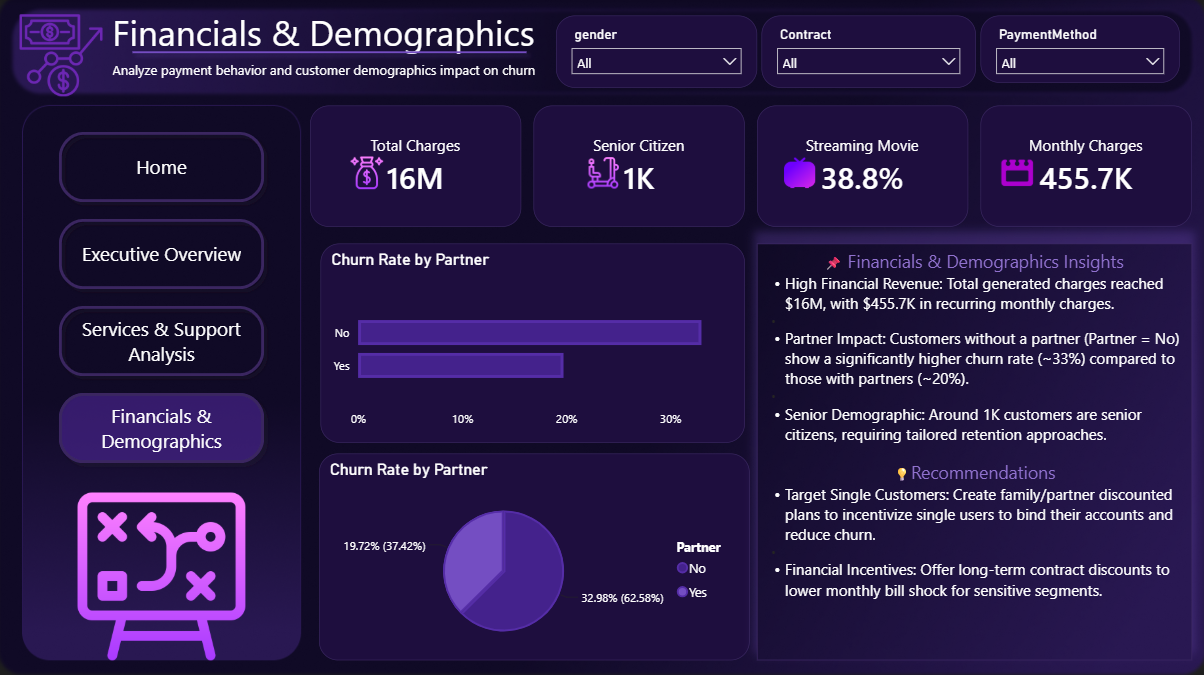

The dashboard page shown, as its layout file describes it:
{"tool":"powerbi","page":{"name":"Financial & Demographics","canvas":[1280,720],"ordinal":3},"visuals":[{"type":"textbox","box":[116.1,4.8,486.7,66.8],"z":0},{"type":"actionButton","box":[55.7,132,235.4,92.3],"z":1000},{"type":"actionButton","box":[55.7,224.3,235.4,92.3],"z":2000},{"type":"actionButton","box":[55.7,316.5,235.4,92.3],"z":3000},{"type":"actionButton","box":[55.7,408.8,235.4,92.3],"z":4000},{"type":"slicer","fields":{"Values":["01 Churn-Dataset.gender"]},"box":[591.7,17.5,213.1,76.3],"z":5000},{"type":"slicer","fields":{"Values":["01 Churn-Dataset.Contract"]},"box":[809.6,17.5,227.5,76.3],"z":6000},{"type":"slicer","fields":{"Values":["01 Churn-Dataset.PaymentMethod"]},"box":[1041.9,17.5,211.6,71.6],"z":7000},{"type":"cardVisual","fields":{"Data":["Sum(01 Churn-Dataset.TotalCharges)"]},"box":[330.8,112.9,224.3,128.8],"z":8000},{"type":"cardVisual","fields":{"Data":["Sum(01 Churn-Dataset.SeniorCitizen)"]},"box":[567.8,112.9,224.3,128.8],"z":9000},{"type":"cardVisual","fields":{"Data":["01 Churn-Dataset.Streaming Movie Adoption"]},"box":[804.8,112.9,224.3,128.8],"z":10000},{"type":"cardVisual","fields":{"Data":["Sum(01 Churn-Dataset.MonthlyCharges)"]},"box":[1041.9,112.9,224.3,128.8],"z":11000},{"type":"clusteredBarChart","fields":{"Y":["01 Churn-Dataset.Churn Rate"],"Category":["01 Churn-Dataset.Partner"]},"box":[342,259.3,450.1,211.6],"z":12000},{"type":"pieChart","fields":{"Y":["01 Churn-Dataset.Churn Rate"],"Category":["01 Churn-Dataset.Partner"]},"box":[340.4,482,456.5,219.5],"z":13000},{"type":"textbox","box":[804.8,259.3,461.3,442.2],"z":14000},{"type":"image","box":[17.5,15.9,98.6,87.5],"z":15000},{"type":"image","box":[55.7,523.3,235.4,178.1],"z":16000},{"type":"textbox","box":[116.1,60.4,475.6,31.8],"z":17000},{"type":"shape","box":[133.6,0,435.8,112.9],"z":18000},{"type":"image","box":[373.8,167,35,35],"z":19000},{"type":"image","box":[625.1,167,33.4,35],"z":20000},{"type":"image","box":[1057.8,167,46.1,35],"z":21000},{"type":"image","box":[827.1,167,46.1,35],"z":22000}]}

Visuals, with their boxes in screenshot pixels (x1, y1, x2, y2), scaled from the page's 1280x720 canvas onto the 1204x675 screenshot:
textbox: [109, 4, 567, 67]
actionButton: [52, 124, 274, 210]
actionButton: [52, 210, 274, 297]
actionButton: [52, 297, 274, 383]
actionButton: [52, 383, 274, 470]
slicer - 01 Churn-Dataset.gender: [557, 16, 757, 88]
slicer - 01 Churn-Dataset.Contract: [762, 16, 976, 88]
slicer - 01 Churn-Dataset.PaymentMethod: [980, 16, 1179, 84]
cardVisual - Sum(01 Churn-Dataset.TotalCharges): [311, 106, 522, 227]
cardVisual - Sum(01 Churn-Dataset.SeniorCitizen): [534, 106, 745, 227]
cardVisual - 01 Churn-Dataset.Streaming Movie Adoption: [757, 106, 968, 227]
cardVisual - Sum(01 Churn-Dataset.MonthlyCharges): [980, 106, 1191, 227]
clusteredBarChart - 01 Churn-Dataset.Churn Rate x 01 Churn-Dataset.Partner: [322, 243, 745, 441]
pieChart - 01 Churn-Dataset.Churn Rate x 01 Churn-Dataset.Partner: [320, 452, 750, 658]
textbox: [757, 243, 1191, 658]
image: [16, 15, 109, 97]
image: [52, 491, 274, 658]
textbox: [109, 57, 557, 86]
shape: [126, 0, 536, 106]
image: [352, 157, 385, 189]
image: [588, 157, 619, 189]
image: [995, 157, 1038, 189]
image: [778, 157, 821, 189]
